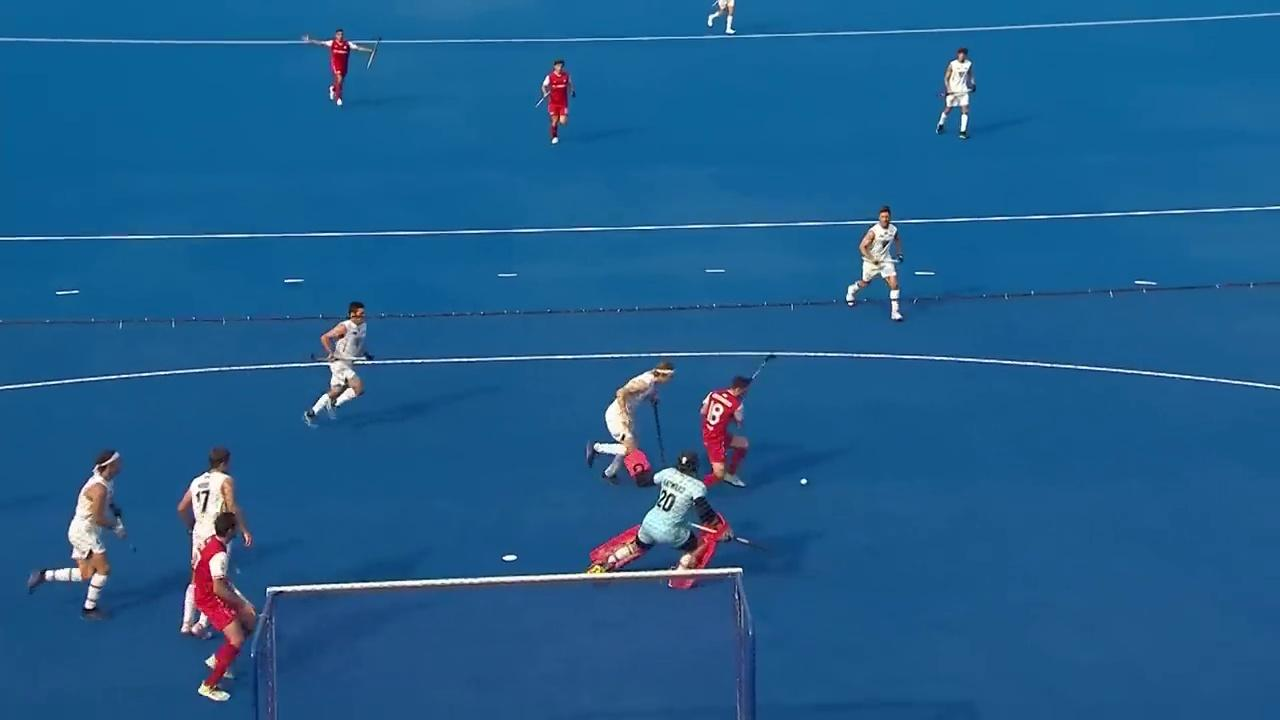ball: (795, 471, 813, 492)
